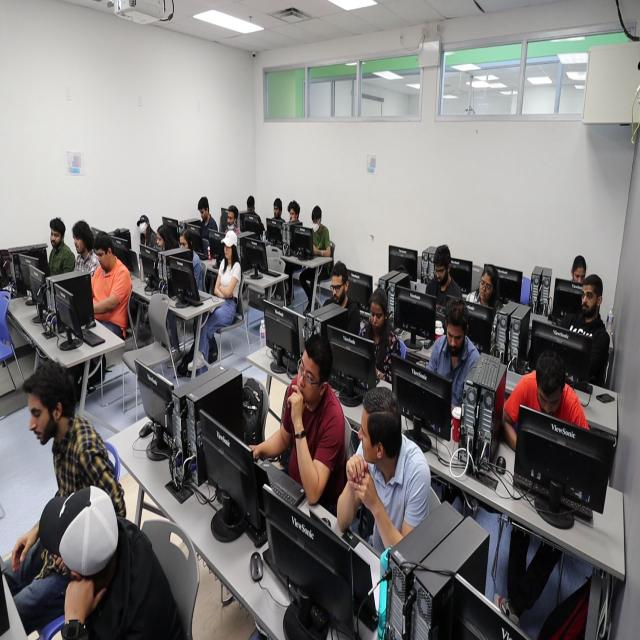Attentive: (296, 346, 320, 403), (581, 279, 598, 317), (154, 229, 166, 250), (51, 224, 61, 248), (223, 240, 233, 264)
Distracted: (358, 398, 378, 468), (27, 393, 52, 446), (533, 377, 564, 418), (446, 318, 467, 356), (329, 276, 347, 306), (369, 300, 384, 332), (478, 272, 493, 303), (95, 246, 110, 276), (433, 259, 448, 285), (571, 265, 586, 288), (72, 228, 84, 252), (198, 205, 207, 224), (180, 236, 190, 250)
